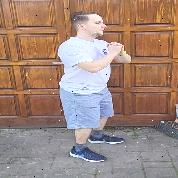squats: (43, 4, 136, 165)
